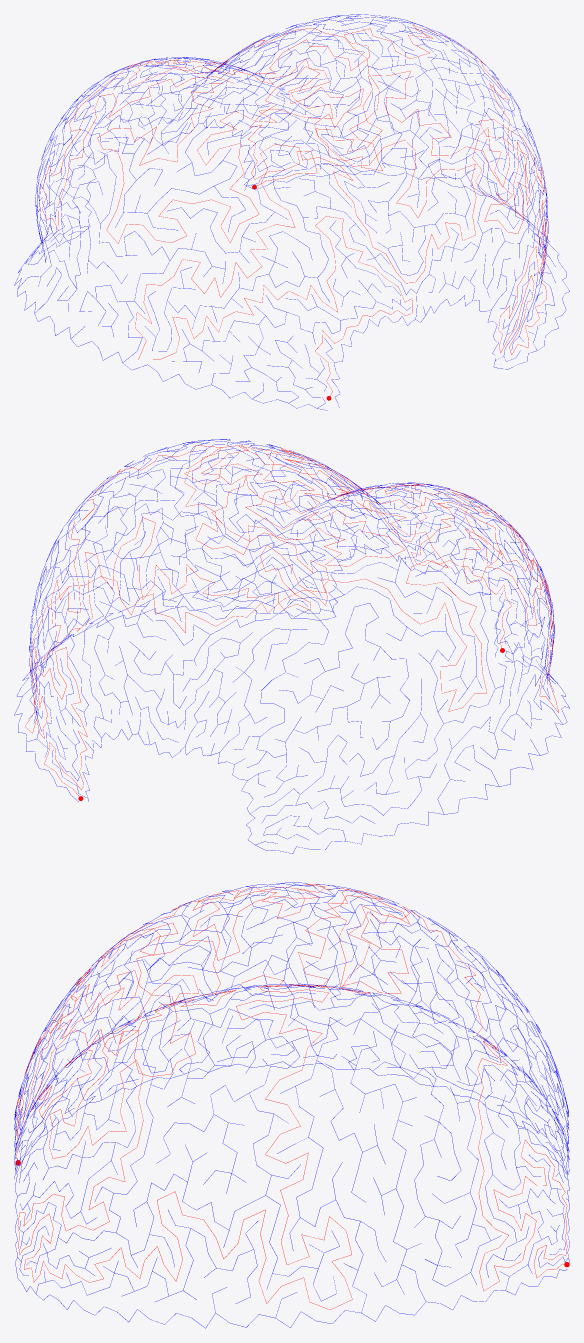
Rendered from middleAnswer2.glb.
3 views of the same model, one above another, from view 1: azimuth 30°, elevation 25°; view 2: azimuth 150°, elevation 25°; view 3: azimuth 270°, elevation 25° (orthographic). The views are drawn at different scales.
Bounding box in the file's own units: 2.19 × 1.09 × 1.98.
